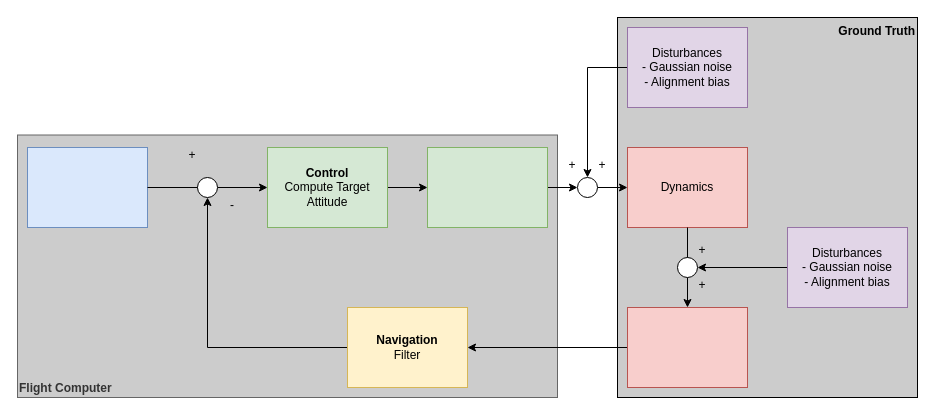
The diagram is 935 pixels wide and 415 high, and some of its shapes have lost their labels. The centre of each missing label's shape, as x and y in pixels:
"Control Allocate torque to actuators" belongs at pixel 487 187.
"Guidance Compute Target Attitude" belongs at pixel 87 187.
"Sensor Measurements" belongs at pixel 687 347.
